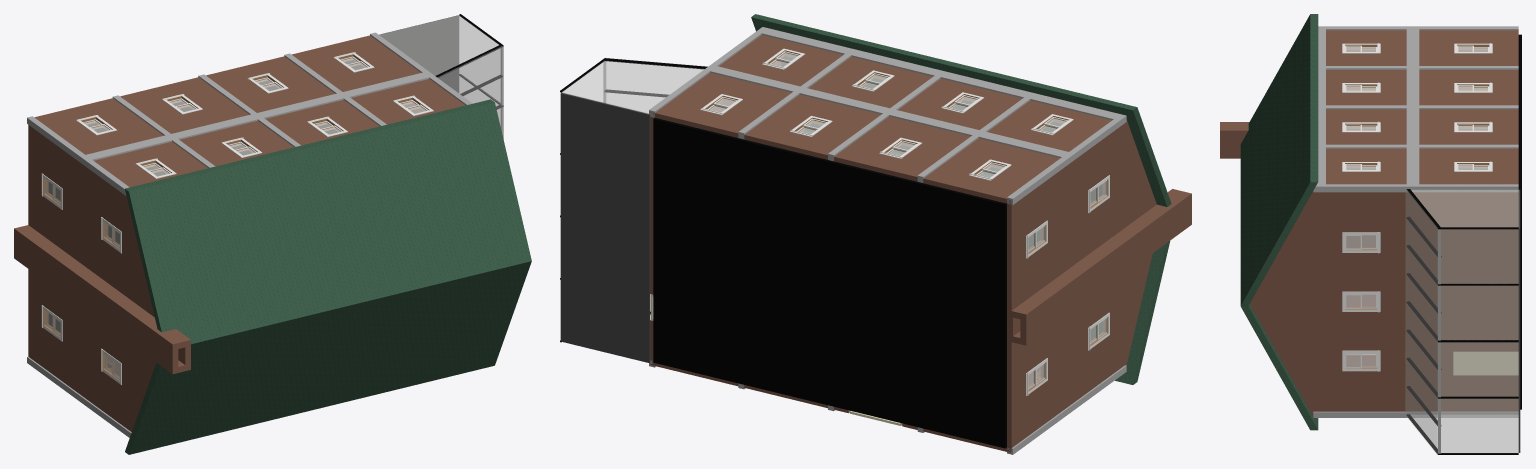
File: building.glb
3 views of the same model, side by side, from view 1: azimuth 30°, elevation 25°; view 2: azimuth 150°, elevation 25°; view 3: azimuth 270°, elevation 25° (orthographic). The views are drawn at different scales.
Parts seen in each view (by area): view 1: Solid1 (×25); view 2: Solid1 (×27); view 3: Solid1 (×33), Solid2.
Part boxes in pixels (left/top/right/bottom): Solid1 (×25): left=14, top=15, right=531, bottom=454; Solid1 (×27): left=560, top=14, right=1191, bottom=454; Solid1 (×33): left=1220, top=14, right=1521, bottom=454; Solid2: left=1453, top=351, right=1518, bottom=375.
Size of the model in its own units: 15.62 by 8.8 by 9.7.
Materials: 32 (1 with a texture image).
